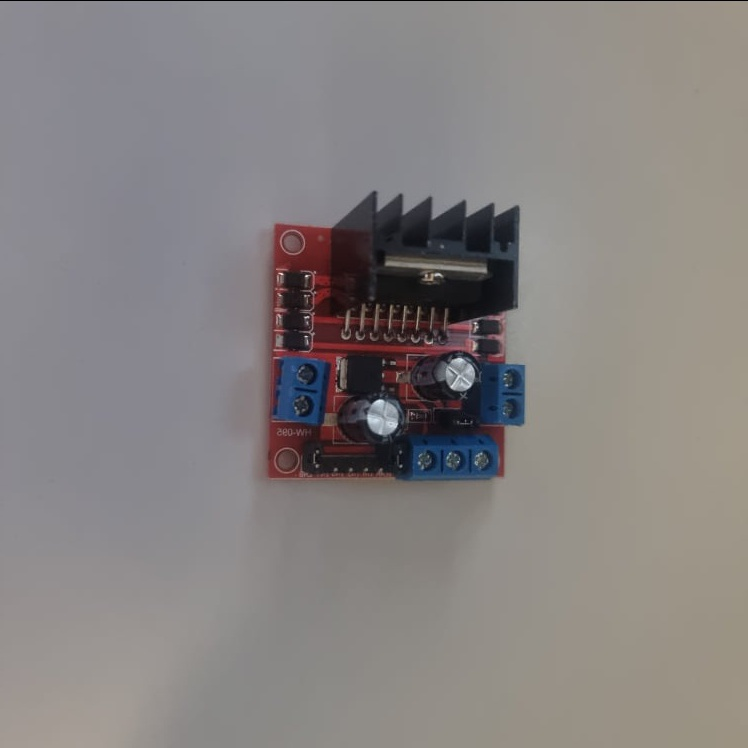MOTOR: (271, 184, 526, 482)
